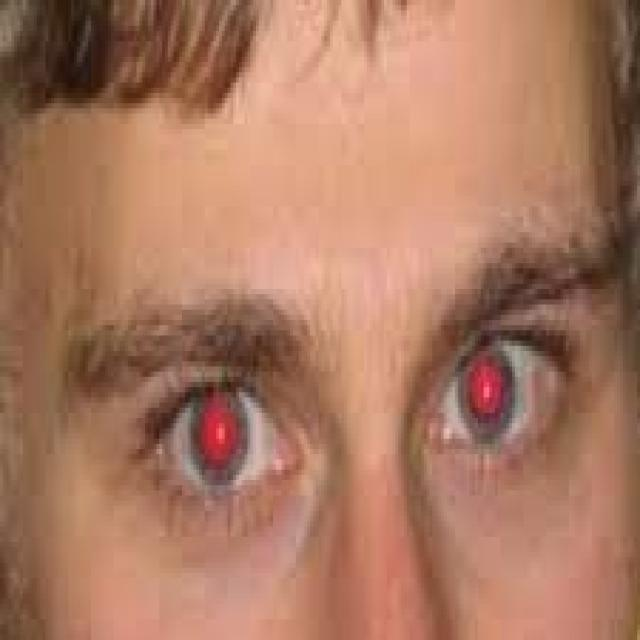reflexo-normal: (138, 359, 310, 521), (422, 312, 566, 476)
